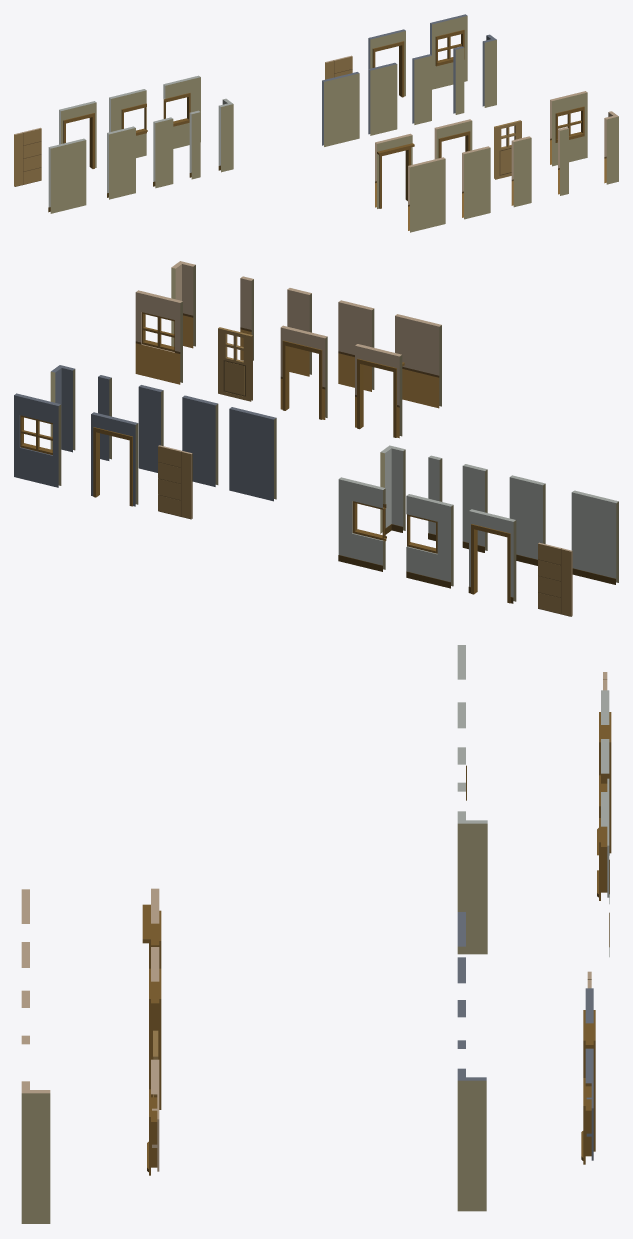
Rendered from house_modular.fbx.
3 views of the same model, one above another, from view 1: azimuth 30°, elevation 25°; view 2: azimuth 150°, elevation 25°; view 3: azimuth 270°, elevation 25° (orthographic). The views are drawn at different scales.
Visible parts, largest first — view 1: wall_2m_bedroom, wall_2m_kitchen, wall_2m_warehouse, wall_1.5m_warehouse, wall_1.5m_kitchen, wall_1.5m_bedroom, window_kitchen, window_warehouse, window02_bedroom, door_bedroom, wall_1m_bedroom, wall_1m_kitchen (+14 smaller); view 2: wall_2m_warehouse, wall_2m_bedroom, wall_2m_kitchen, window_kitchen, window_warehouse, window02_bedroom, window01_bedroom, wall_1.5m_warehouse, wall_1.5m_bedroom, wall_1.5m_kitchen, door_bedroom, door_warehouse (+14 smaller); view 3: wall_corner_warehouse, wall_corner_kitchen, wall_corner_bedroom, door_frame_inside_kitchen, window_warehouse, window_kitchen, window02_bedroom, door_frame_inside_warehouse, door_frame_outside_kitchen, door_frame_inside_bedroom.
Part boxes in pixels (x1,y1,x2,y2): wall_2m_bedroom: (48, 138, 86, 213); wall_2m_kitchen: (408, 157, 445, 232); wall_2m_warehouse: (322, 72, 359, 146); wall_1.5m_warehouse: (368, 62, 397, 135); wall_1.5m_kitchen: (462, 146, 490, 219); wall_1.5m_bedroom: (107, 126, 135, 199); window_kitchen: (550, 91, 587, 166); window_warehouse: (430, 14, 467, 89); window02_bedroom: (163, 75, 200, 148); door_bedroom: (14, 127, 41, 186); wall_1m_bedroom: (153, 117, 173, 188); wall_1m_kitchen: (511, 136, 531, 207); wall_2m_warehouse: (229, 407, 276, 501); wall_2m_bedroom: (571, 490, 618, 584); wall_2m_kitchen: (395, 314, 441, 408); window_kitchen: (135, 290, 182, 384); window_warehouse: (14, 393, 61, 487); window02_bedroom: (338, 477, 386, 571); window01_bedroom: (406, 494, 453, 588); wall_1.5m_warehouse: (182, 395, 218, 486); wall_1.5m_bedroom: (509, 475, 545, 565); wall_1.5m_kitchen: (338, 300, 374, 391); door_bedroom: (538, 542, 572, 616); door_warehouse: (158, 445, 192, 519); wall_corner_warehouse: (457, 1068, 486, 1211); wall_corner_kitchen: (21, 1081, 50, 1223); wall_corner_bedroom: (457, 811, 487, 954); door_frame_inside_kitchen: (149, 947, 161, 1109); window_warehouse: (581, 1048, 593, 1164); window_kitchen: (147, 1059, 159, 1175); window02_bedroom: (597, 792, 609, 957); door_frame_inside_warehouse: (583, 988, 595, 1151); door_frame_outside_kitchen: (142, 888, 161, 968); door_frame_inside_bedroom: (599, 690, 611, 855).
Size of the model in its own units: 25.84 by 3.5 by 14.33.
10 materials, 10 textured.
